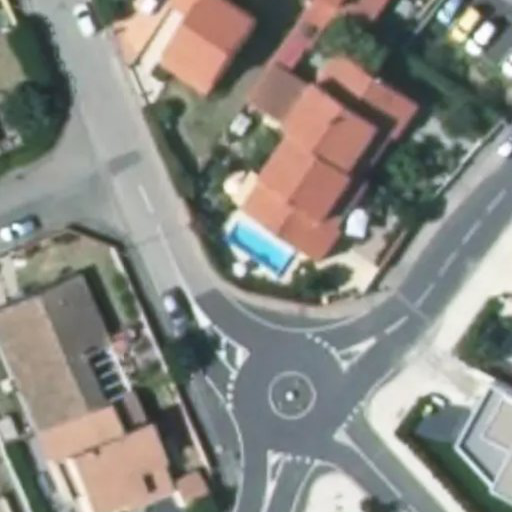pool: (229, 222, 294, 280)
